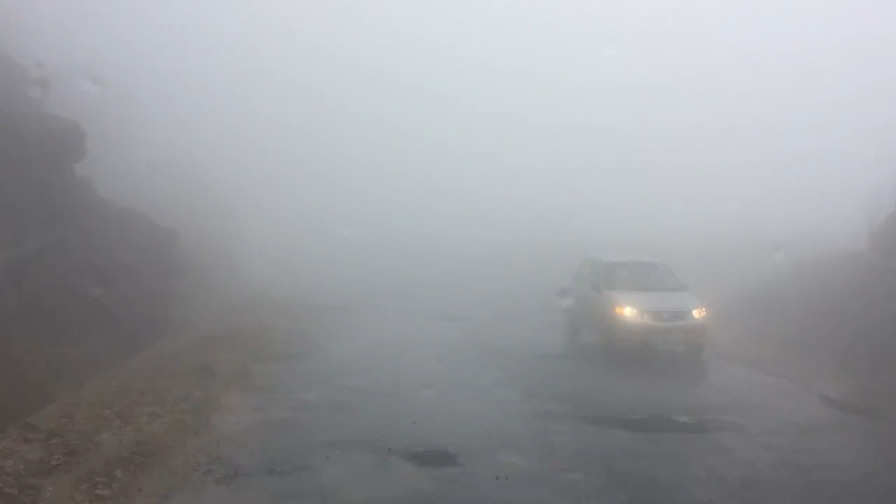car: (557, 255, 710, 361)
